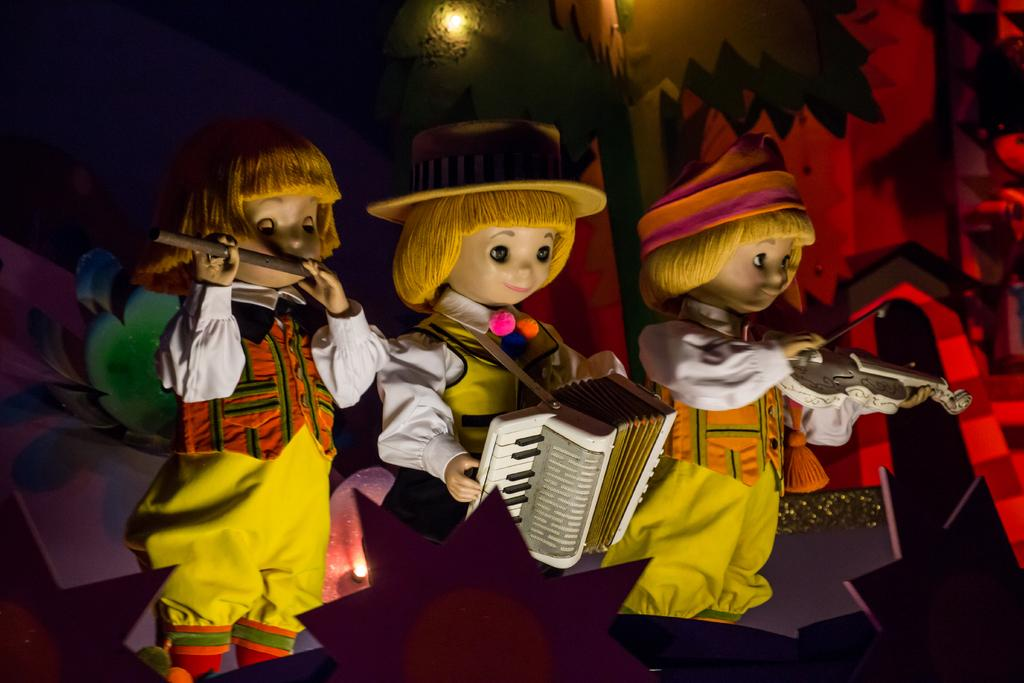Hat: (368, 112, 600, 224)
